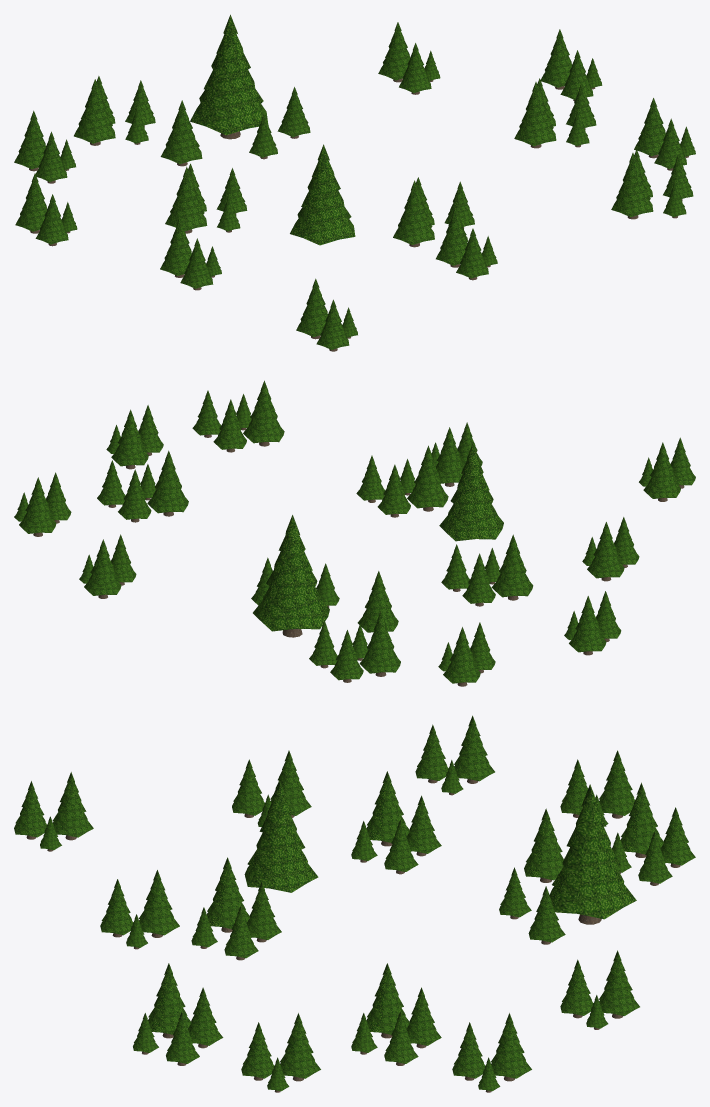
File: tree.obj
3 renders of one model, top to bottom at view 1: azimuth 30°, elevation 25°; view 2: azimuth 150°, elevation 25°; view 3: azimuth 270°, elevation 25°, orthographic. The views are drawn at different scales.
Visible parts, largest first — view 1: Cylinder.044_Cylinder.055, Cylinder.043_Cylinder.054, Cylinder.034_Cylinder.045, Cylinder.017_Cylinder.028, Cylinder.033_Cylinder.044, Cylinder_Cylinder.001, Cylinder.051_Cylinder.062, Cylinder.018_Cylinder.029, Cylinder.073_Cylinder.084, Cylinder.061_Cylinder.072, Cylinder.078_Cylinder.089, Cylinder.066_Cylinder.077 (+19 smaller); view 2: Cylinder.044_Cylinder.055, Cylinder.043_Cylinder.054, Cylinder.017_Cylinder.028, Cylinder.018_Cylinder.029, Cylinder.033_Cylinder.044, Cylinder_Cylinder.001, Cylinder.034_Cylinder.045, Cylinder.051_Cylinder.062, Cylinder.078_Cylinder.089, Cylinder.097_Cylinder.108, Cylinder.061_Cylinder.072, Cylinder.066_Cylinder.077 (+22 smaller); view 3: Cylinder.044_Cylinder.055, Cylinder.043_Cylinder.054, Cylinder.051_Cylinder.062, Cylinder.018_Cylinder.029, Cylinder_Cylinder.001, Cylinder.033_Cylinder.044, Cylinder.017_Cylinder.028, Cylinder.034_Cylinder.045, Cylinder.097_Cylinder.108, Cylinder.078_Cylinder.089, Cylinder.085_Cylinder.096, Cylinder.054_Cylinder.065 (+24 smaller).
Part boxes in pixels (x1=…): Cylinder.044_Cylinder.055: x1=190, y1=14, x2=268, y2=135; Cylinder.043_Cylinder.054: x1=290, y1=144, x2=355, y2=245; Cylinder.034_Cylinder.045: x1=611, y1=153, x2=653, y2=217; Cylinder.017_Cylinder.028: x1=74, y1=79, x2=115, y2=143; Cylinder.033_Cylinder.044: x1=514, y1=82, x2=556, y2=146; Cylinder_Cylinder.001: x1=393, y1=180, x2=434, y2=244; Cylinder.051_Cylinder.062: x1=160, y1=100, x2=202, y2=163; Cylinder.018_Cylinder.029: x1=165, y1=166, x2=207, y2=231; Cylinder.073_Cylinder.084: x1=436, y1=207, x2=467, y2=265; Cylinder.061_Cylinder.072: x1=14, y1=110, x2=45, y2=169; Cylinder.078_Cylinder.089: x1=634, y1=98, x2=665, y2=156; Cylinder.066_Cylinder.077: x1=160, y1=217, x2=191, y2=275; Cylinder.044_Cylinder.055: x1=253, y1=515, x2=329, y2=631; Cylinder.043_Cylinder.054: x1=439, y1=443, x2=503, y2=541; Cylinder.017_Cylinder.028: x1=359, y1=611, x2=400, y2=673; Cylinder.018_Cylinder.029: x1=491, y1=534, x2=533, y2=597; Cylinder.033_Cylinder.044: x1=147, y1=450, x2=188, y2=513; Cylinder_Cylinder.001: x1=407, y1=445, x2=448, y2=508; Cylinder.034_Cylinder.045: x1=243, y1=380, x2=284, y2=443; Cylinder.051_Cylinder.062: x1=357, y1=571, x2=398, y2=632; Cylinder.078_Cylinder.089: x1=111, y1=409, x2=148, y2=466; Cylinder.097_Cylinder.108: x1=569, y1=596, x2=606, y2=652; Cylinder.061_Cylinder.072: x1=443, y1=627, x2=480, y2=683; Cylinder.066_Cylinder.077: x1=587, y1=522, x2=624, y2=578; Cylinder.044_Cylinder.055: x1=549, y1=784, x2=636, y2=919; Cylinder.043_Cylinder.054: x1=244, y1=780, x2=318, y2=892; Cylinder.051_Cylinder.062: x1=524, y1=808, x2=563, y2=880; Cylinder.018_Cylinder.029: x1=366, y1=771, x2=409, y2=842; Cylinder_Cylinder.001: x1=206, y1=857, x2=250, y2=928; Cylinder.033_Cylinder.044: x1=366, y1=963, x2=409, y2=1034; Cylinder.017_Cylinder.028: x1=620, y1=782, x2=663, y2=854; Cylinder.034_Cylinder.045: x1=148, y1=963, x2=191, y2=1034; Cylinder.097_Cylinder.108: x1=454, y1=715, x2=494, y2=781; Cylinder.078_Cylinder.089: x1=280, y1=1013, x2=320, y2=1078; Cylinder.085_Cylinder.096: x1=491, y1=1013, x2=531, y2=1078; Cylinder.054_Cylinder.065: x1=599, y1=950, x2=639, y2=1015.
Size of the model in its own units: 36.66 by 7.16 by 32.57.
